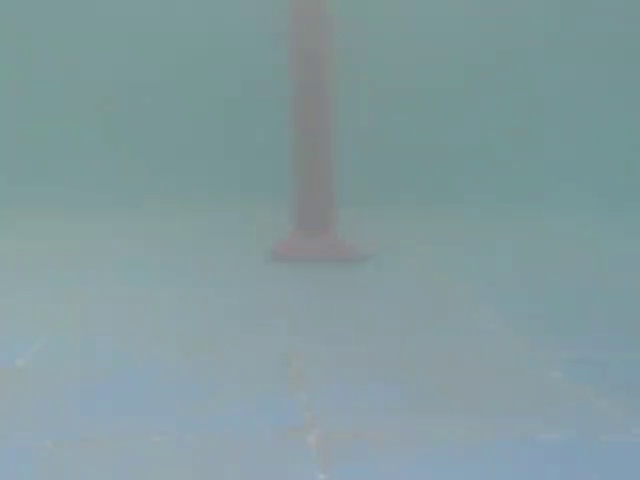flare: (273, 0, 362, 274)
